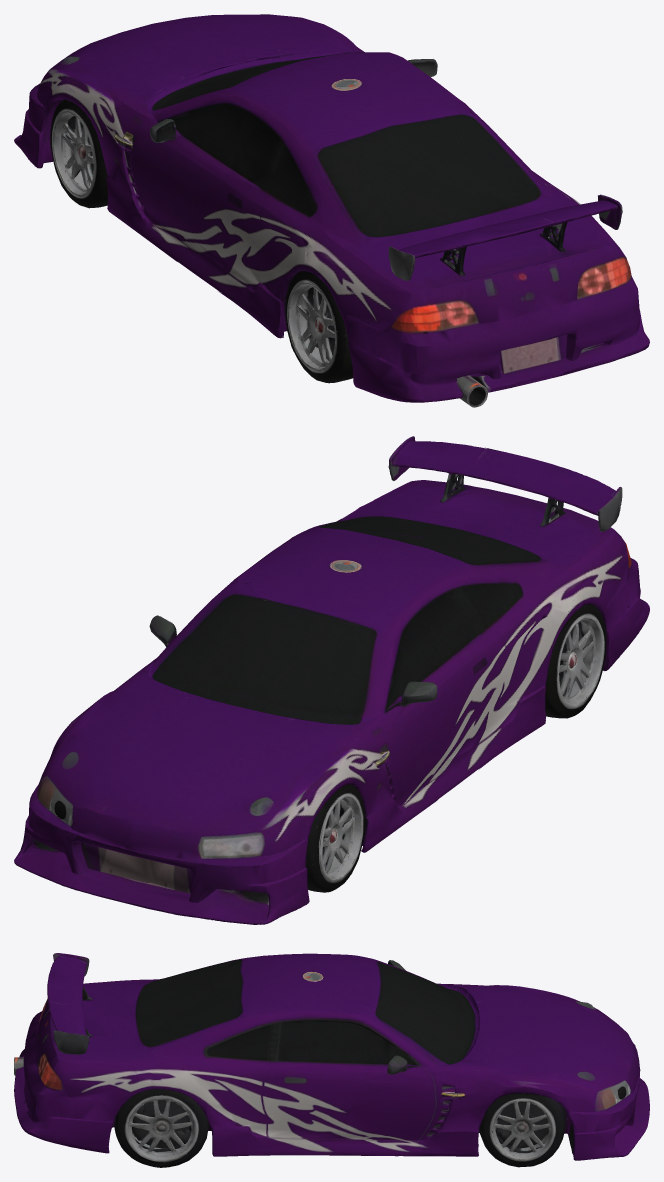
The model's file is neon-tuner.glb.
3 renders of one model, top to bottom at view 1: azimuth 30°, elevation 25°; view 2: azimuth 150°, elevation 25°; view 3: azimuth 270°, elevation 25°, orthographic. The views are drawn at different scales.
Parts seen in each view (by area): view 1: MeshyFit; view 2: MeshyFit; view 3: MeshyFit.
Part boxes in pixels (left/top/right/bottom): MeshyFit: left=14, top=14, right=649, bottom=407; MeshyFit: left=14, top=436, right=649, bottom=924; MeshyFit: left=14, top=953, right=649, bottom=1167.
Bounding box in the file's own units: 1.8 × 1.16 × 4.6.
1 material, 1 textured.
